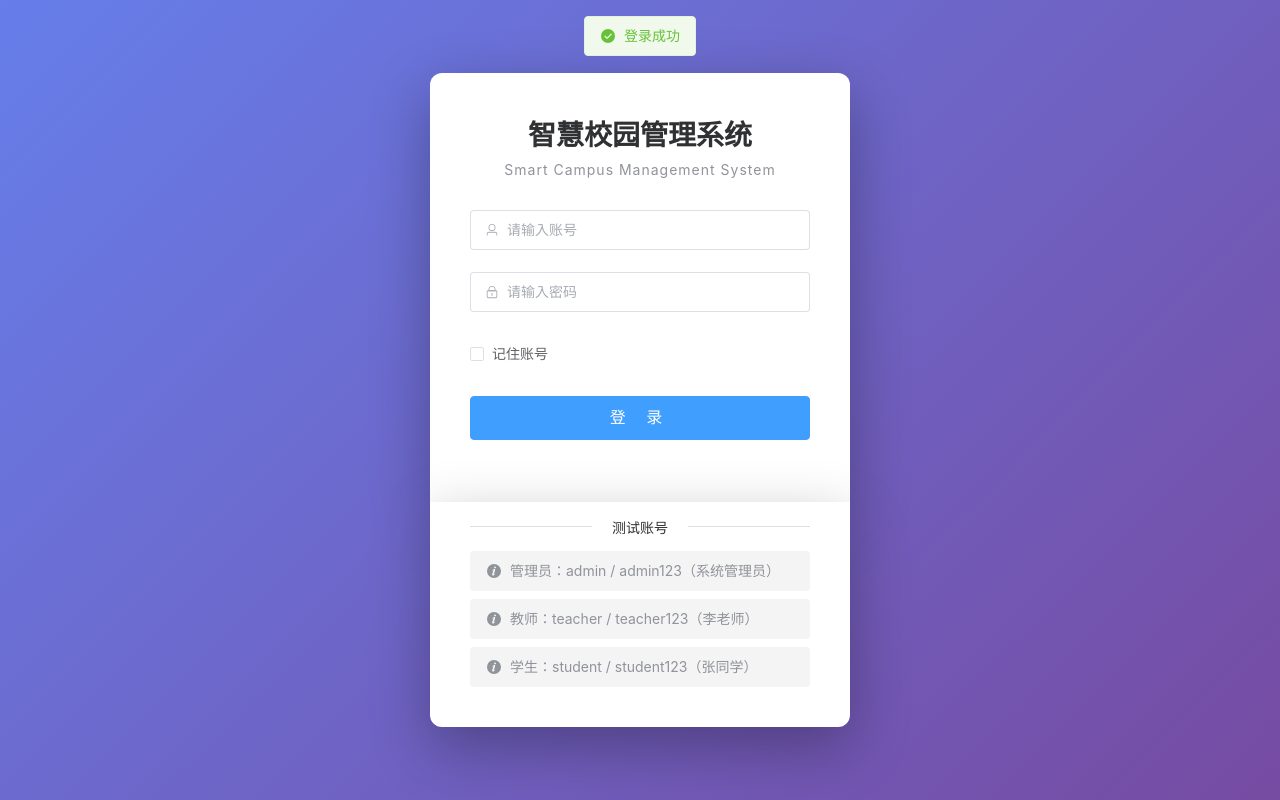
Scenario: Login.vue - 测试账号一键填入回归测试 › 先触发必填错误后点击测试账号：清除校验提示 + 可直接回车登录 › 先触发校验失败 -> 点击测试账号填入学生 -> 校验通过 + 回车登录成功
Click the button with class "login-btn".
click(640, 418)  # box [470,396,810,440]
Wait 100 ms
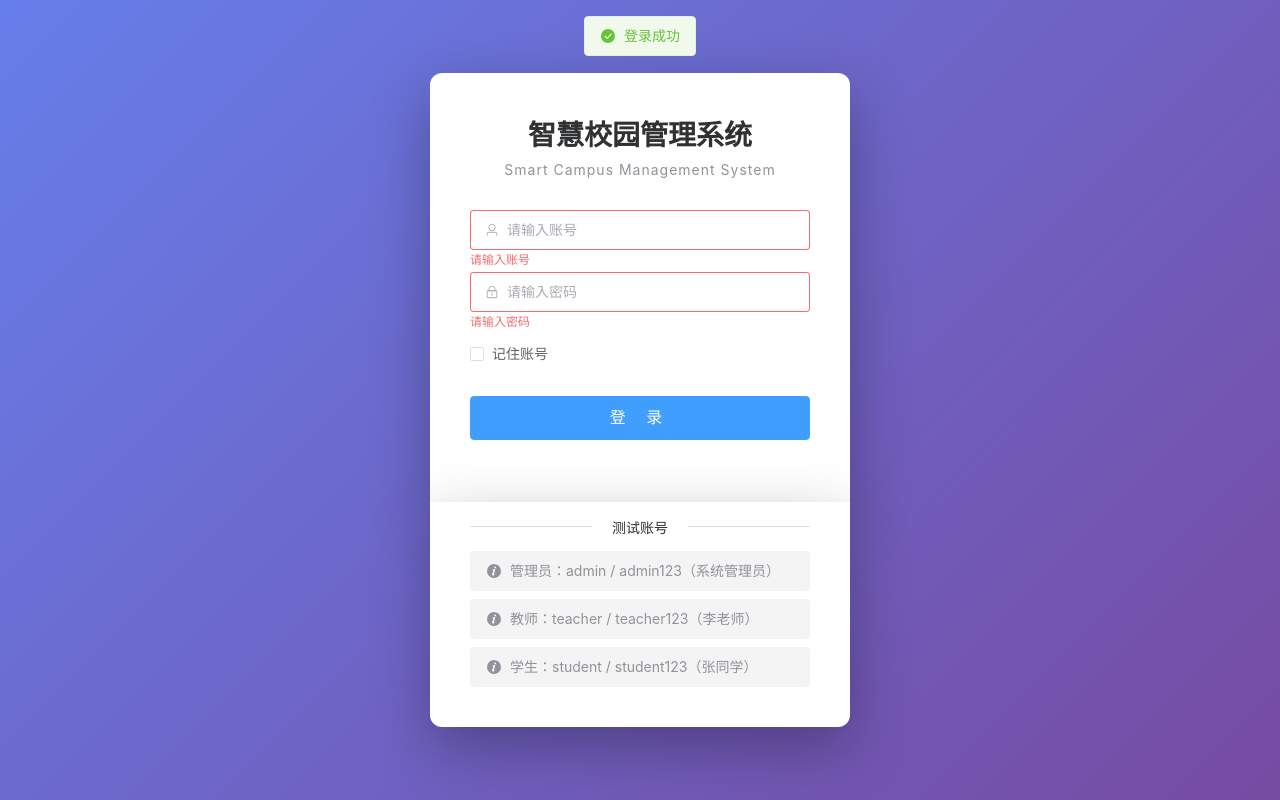
Expected: the element with class "login-card" is shown, [430,73,850,502]
Click the message "学生：student / student123（张同学）".
click(640, 667)  # box [470,647,810,687]
Wait 100 ms
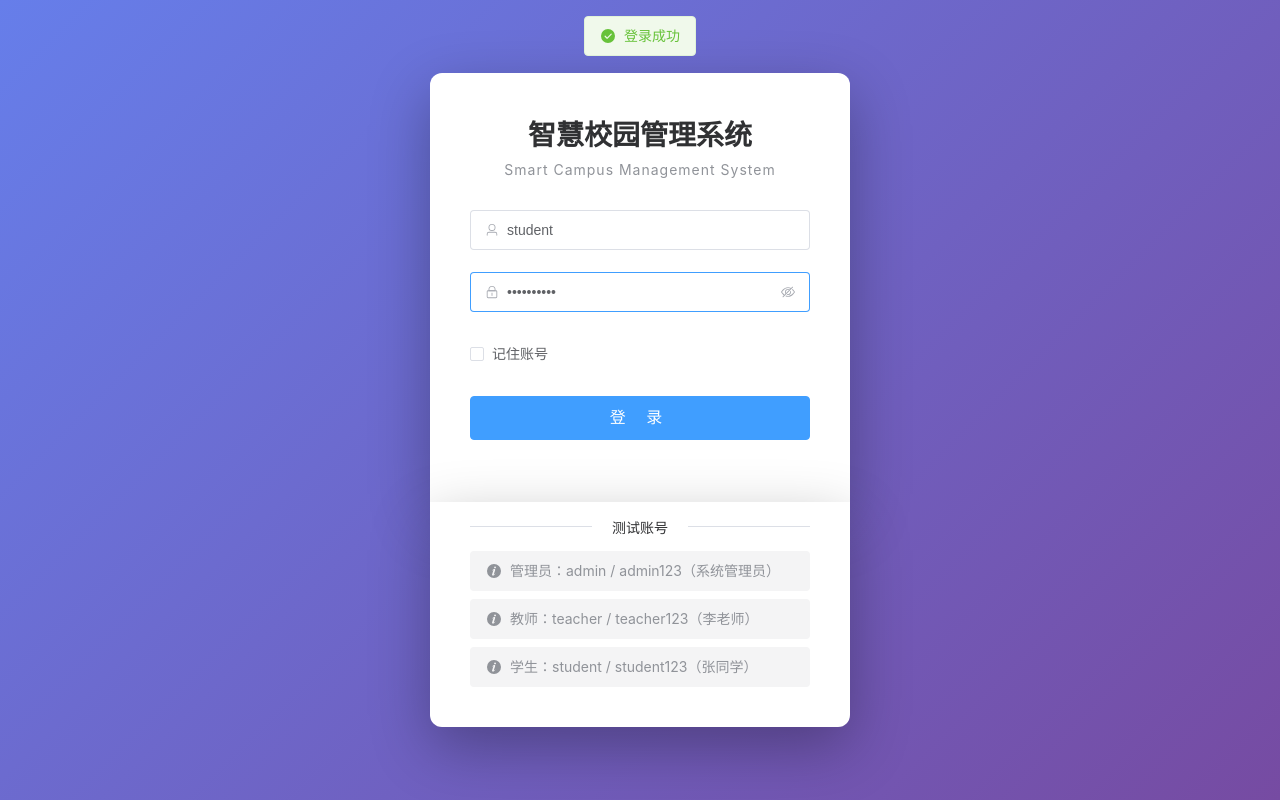
Now the field holds "student", box [507,211,795,249]
Now the password field holds "student123"
Press Enter in the password field, box [507,273,773,311]
Wait 600 ms
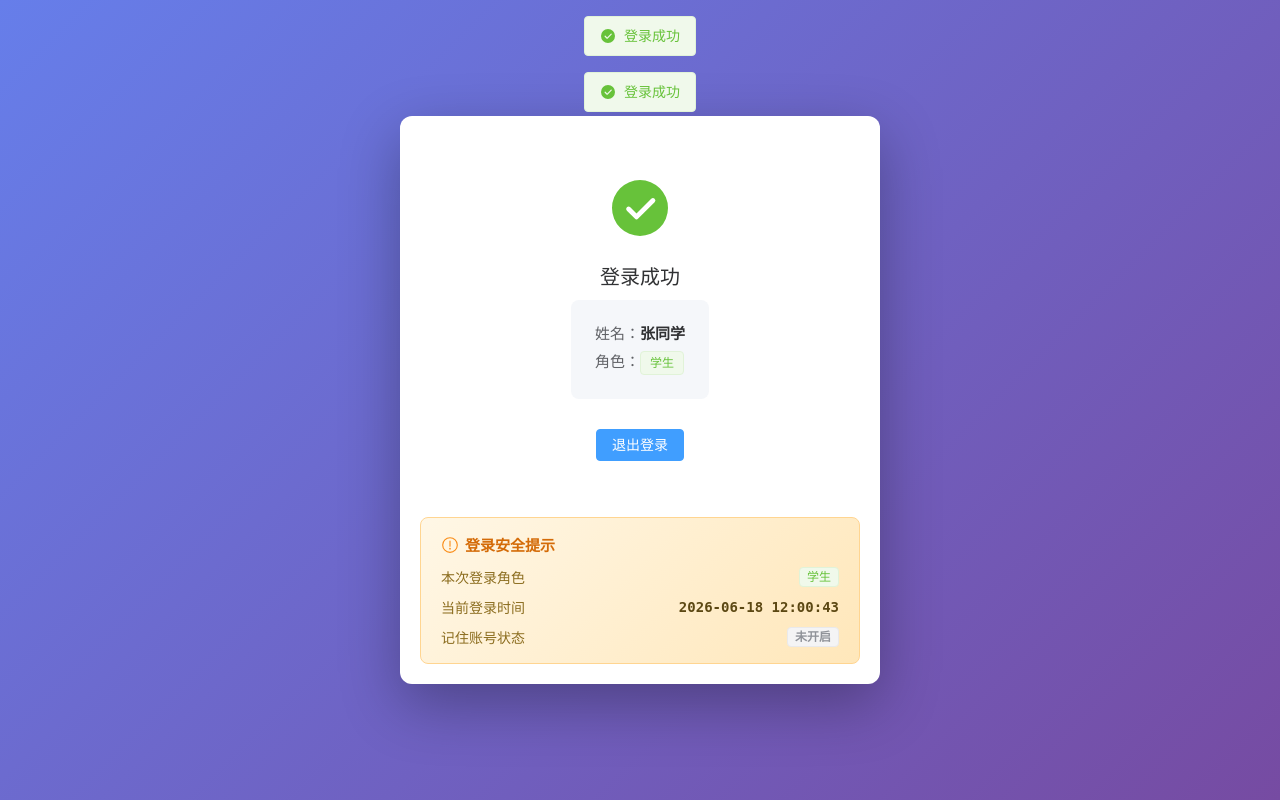
Expected: the text "张同学" is shown, [640,324,685,343]
Now the element that starts with "登录成功" is shown, box [400,116,880,684]
